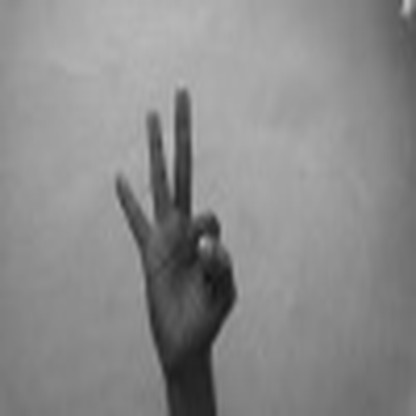f: (107, 80, 239, 355)
